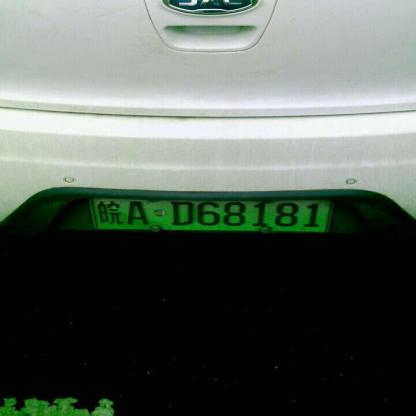lp: (91, 198, 331, 231)
